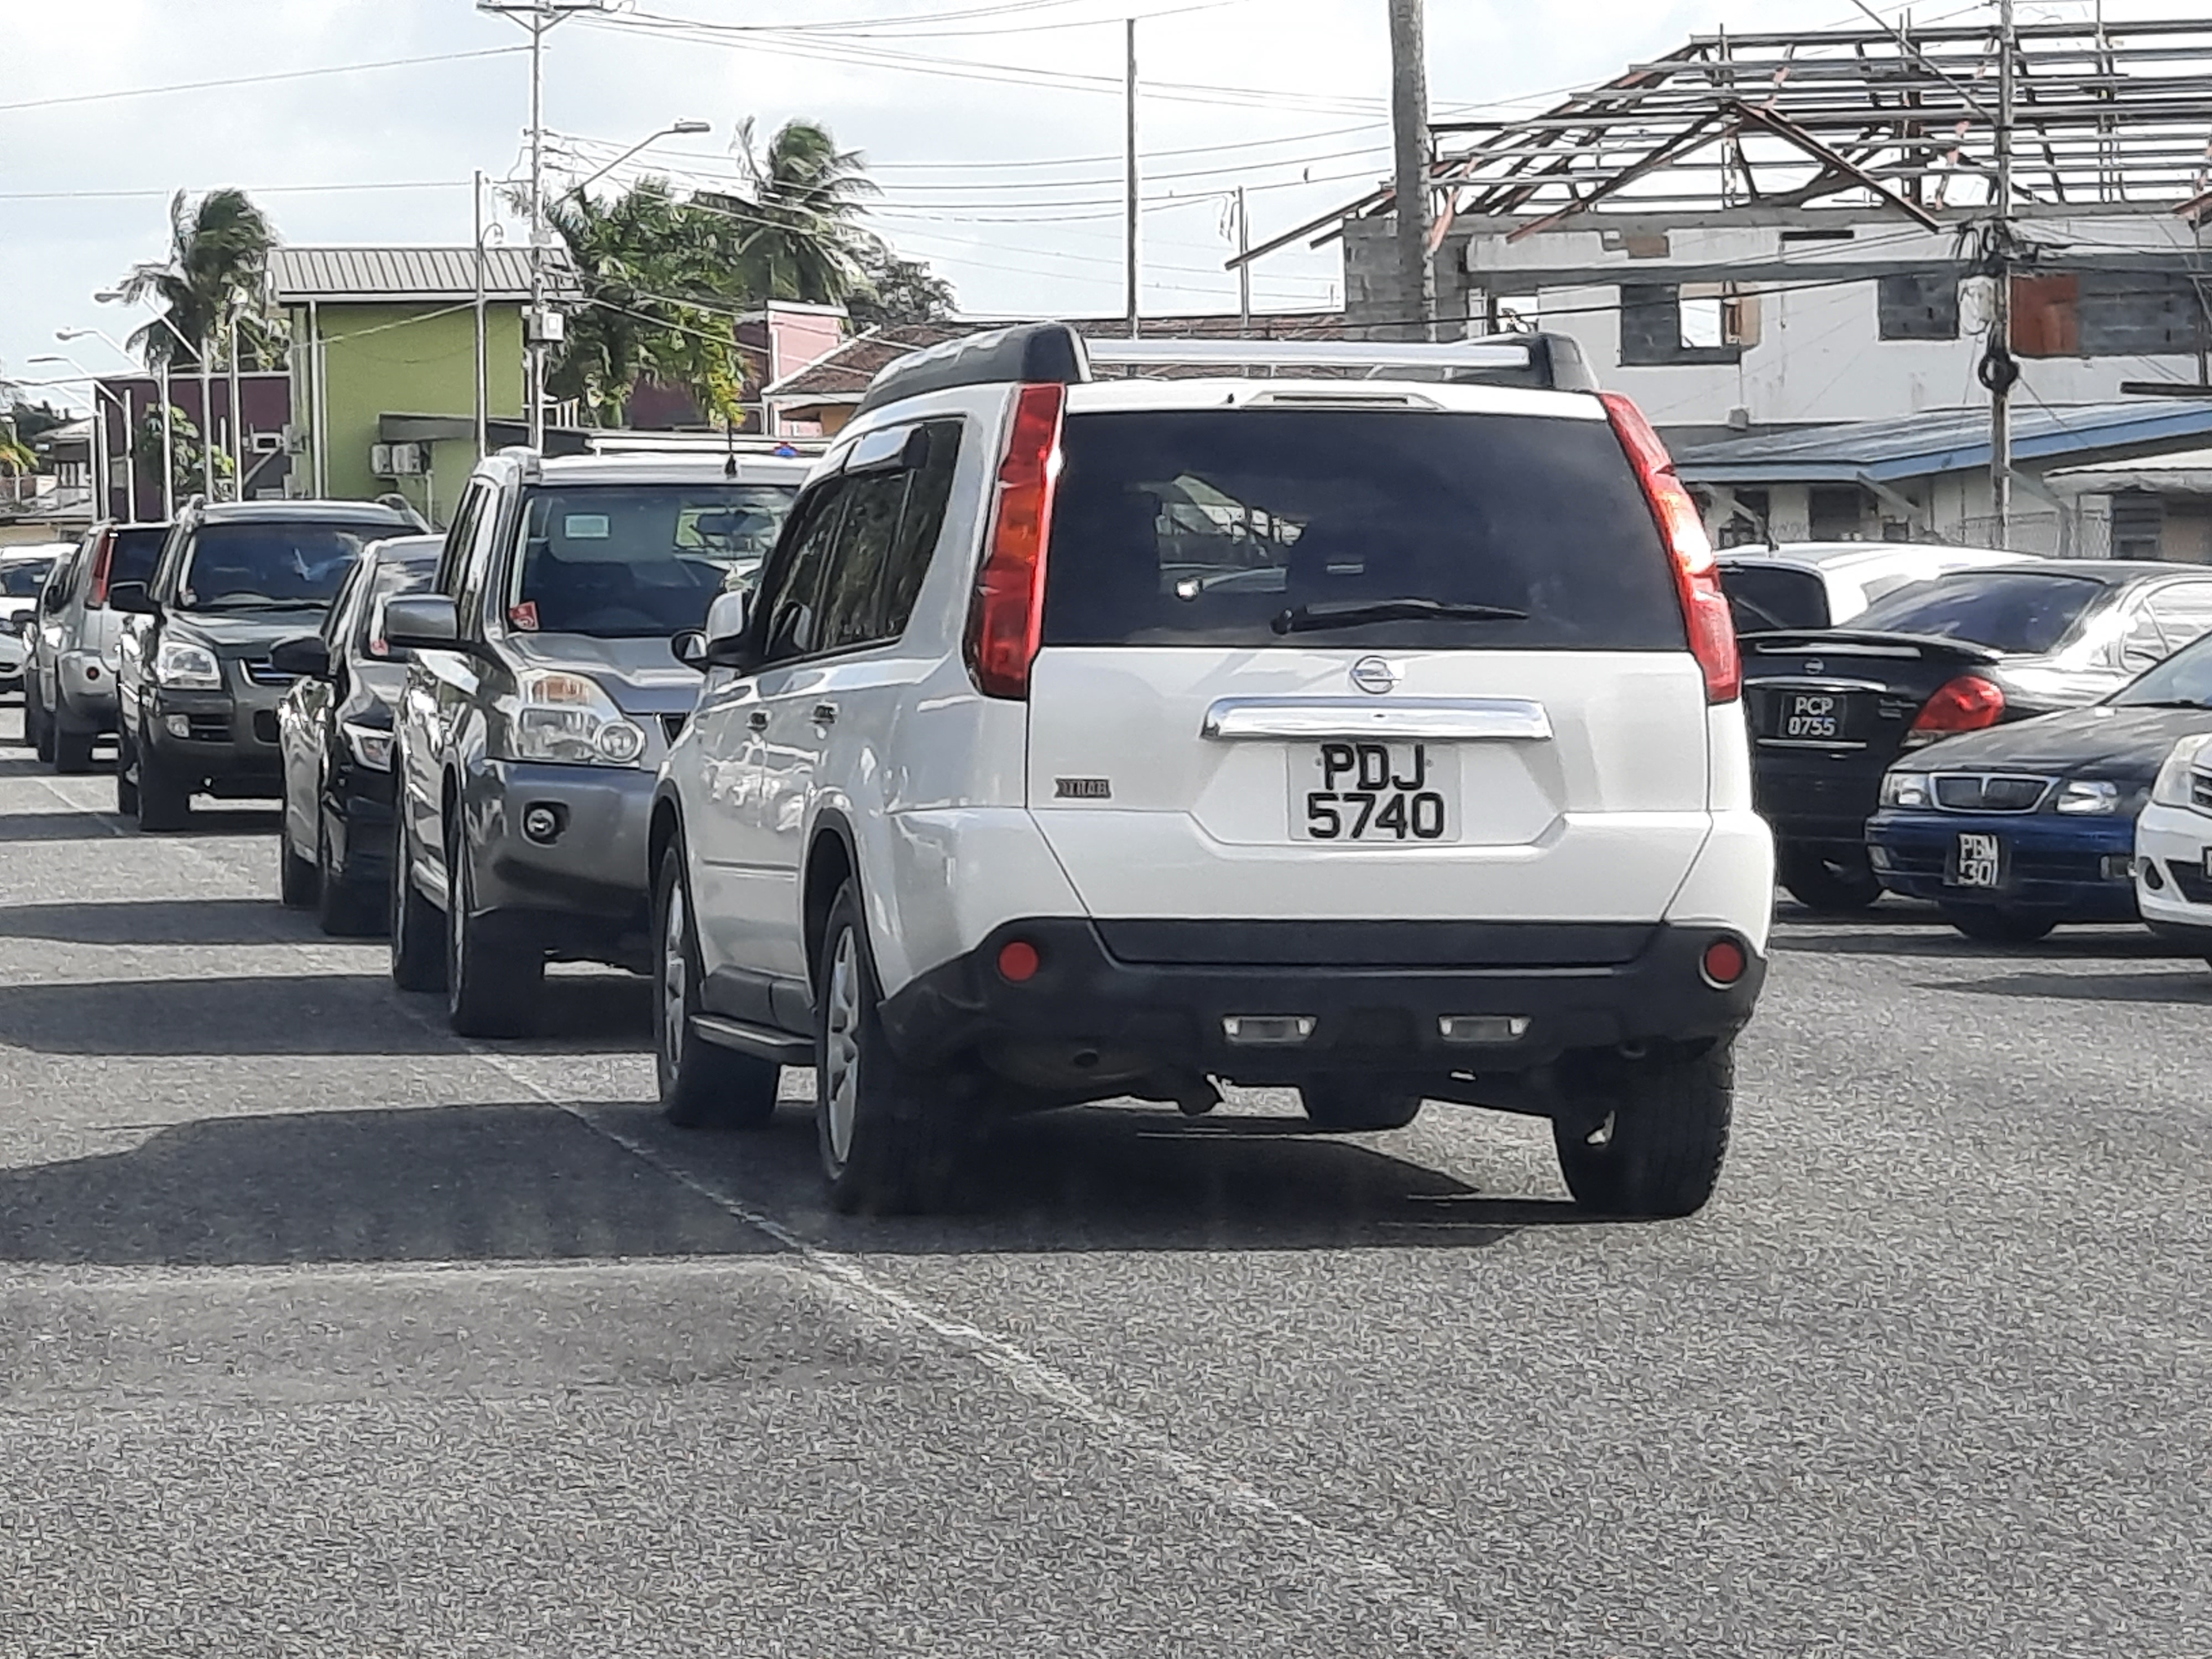License-Plate: (1287, 740, 1460, 841), (1949, 830, 2007, 886), (1783, 690, 1845, 735)
